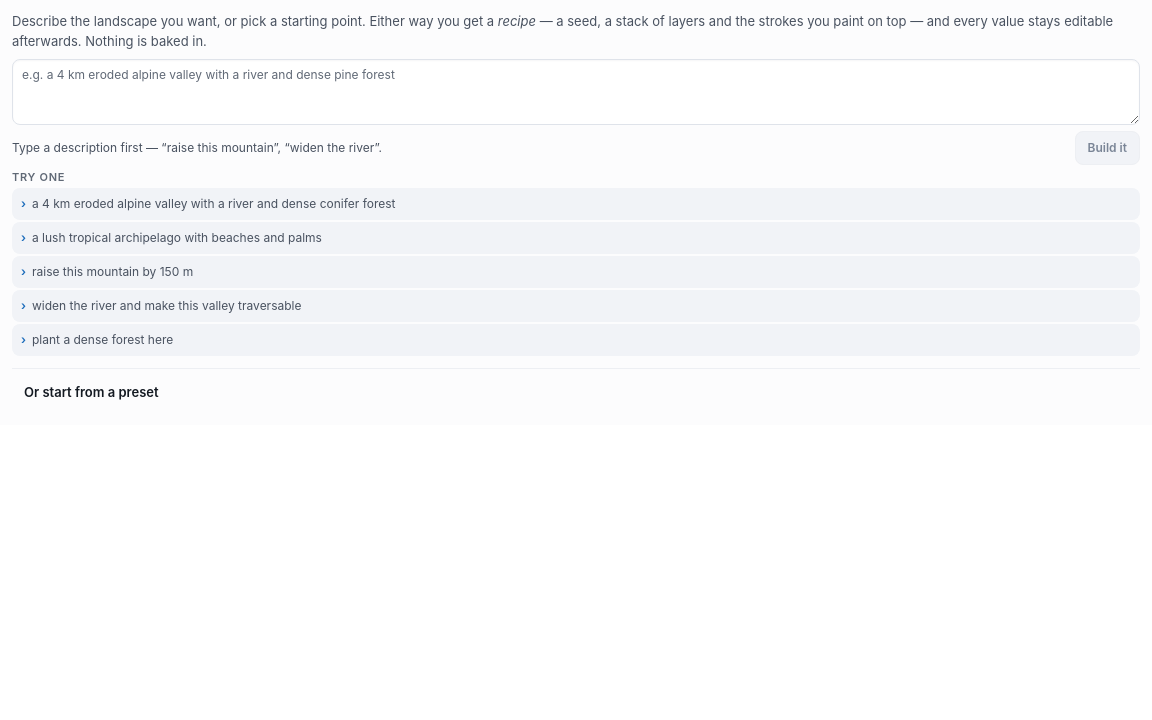
Scenario: an impossible request is refused with a reason and a way forward
Replace the text in the text box with test id "terrain-describe-text" with "raise the volcano": (576, 92) [12,59,1140,125]
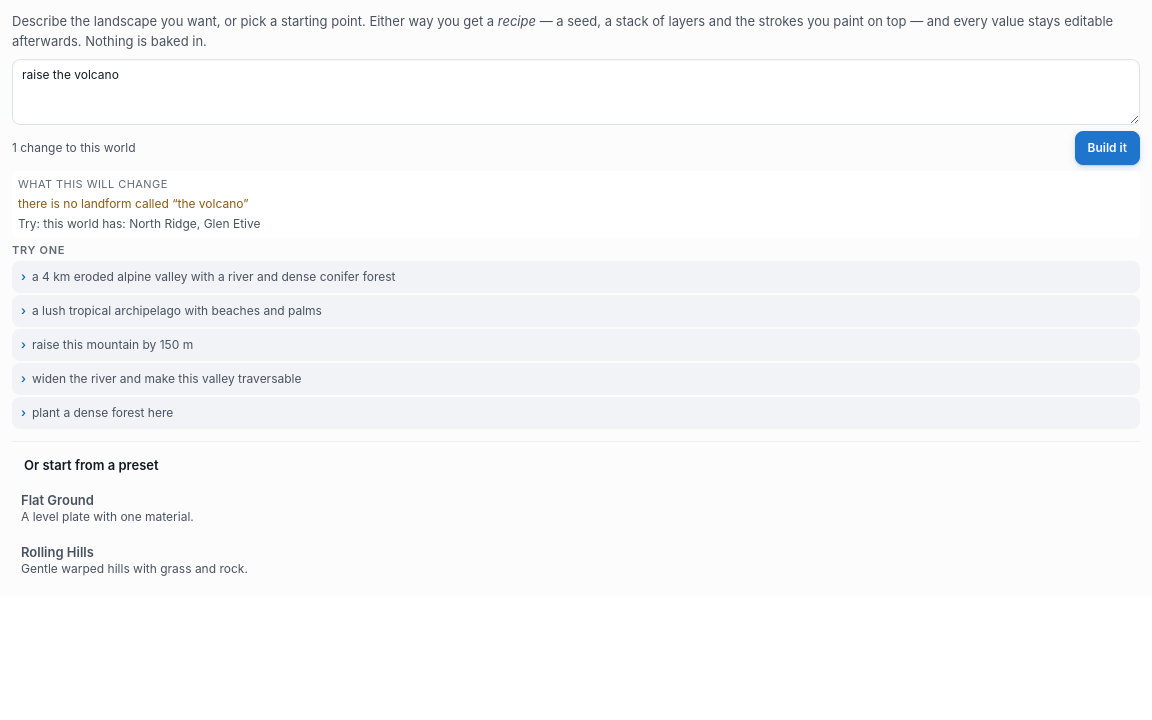
Expected: the element with test id "terrain-plan-step" shows "no landform called", [18,196,248,211]
Expected: the element with test id "terrain-plan-step" shows "North Ridge", [43,216,261,230]
